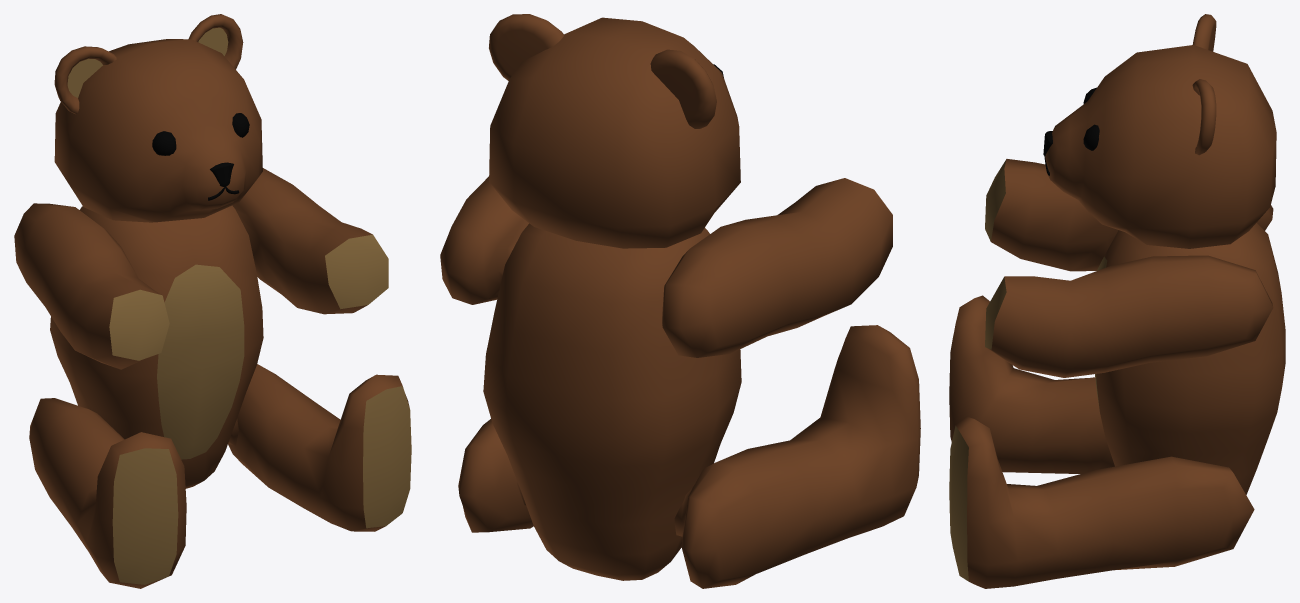
File: SM_Bear.glb
The picture shows the model from 3 angles, left to right: view 1: azimuth 30°, elevation 25°; view 2: azimuth 150°, elevation 25°; view 3: azimuth 270°, elevation 25°; orthographic projection. The views are drawn at different scales.
Parts seen in each view (by area): view 1: SM_Bear; view 2: SM_Bear; view 3: SM_Bear.
Part boxes in pixels (x1,y1,x2,y2): SM_Bear: (14, 14, 411, 588); SM_Bear: (440, 14, 920, 588); SM_Bear: (949, 14, 1285, 588).
Bounding box in the file's own units: 0.7086 × 0.9709 × 0.6221.
